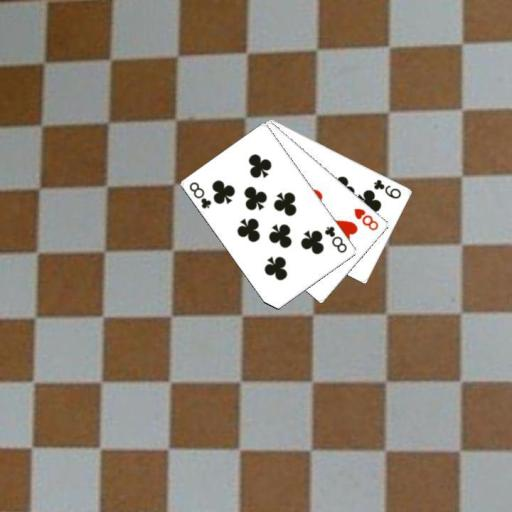8C: (322, 223, 349, 255), (187, 179, 214, 211)
8H: (352, 205, 381, 232)
9C: (371, 177, 403, 201)
